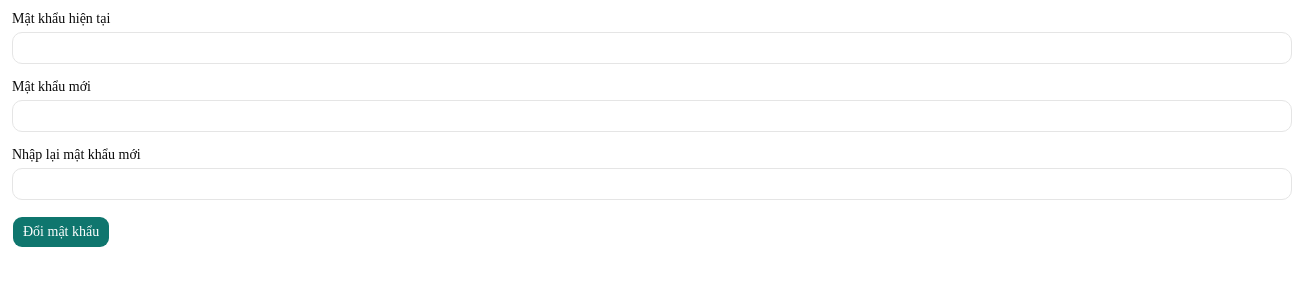
ChangePasswordForm › nhập lại không khớp -> lỗi ở ô nhập lại
The image size is (1304, 290).
Type "old-password-1" into the password field labelled "Mật khẩu hiện tại". click: (652, 48)
box: [12, 32, 1292, 64]
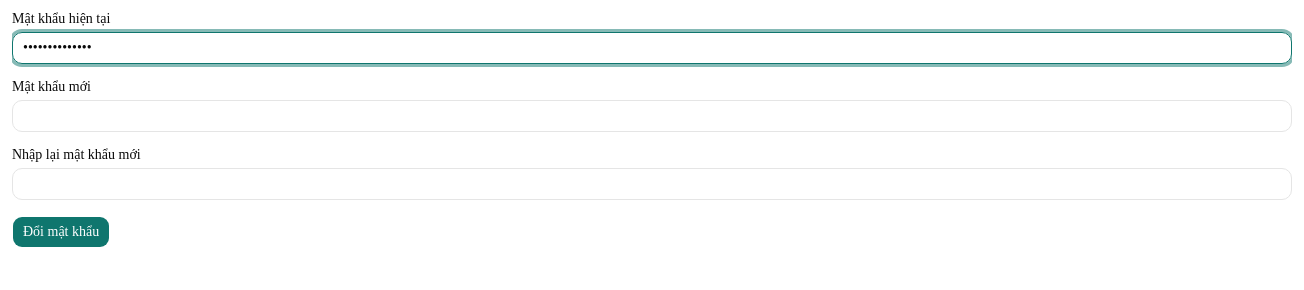
Type "new-password-2" into the password field labelled "Mật khẩu mới". click: (652, 116)
box: [12, 100, 1292, 132]
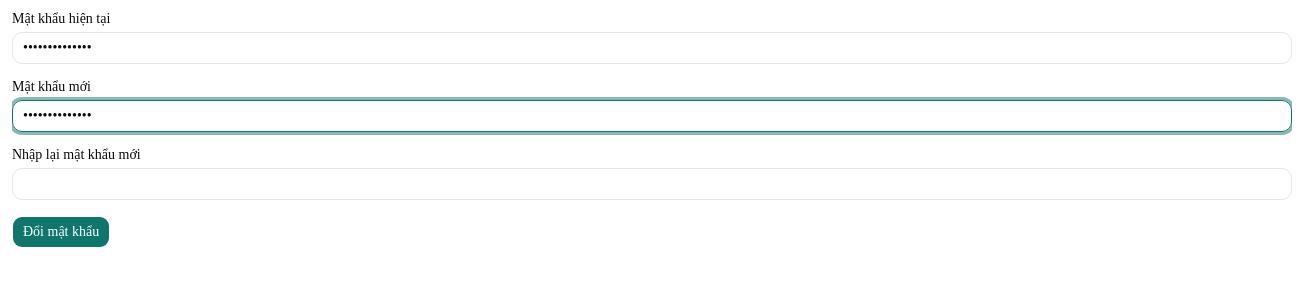
Type "new-password-3" into the password field labelled "Nhập lại mật khẩu mới". click: (652, 184)
box: [12, 168, 1292, 200]
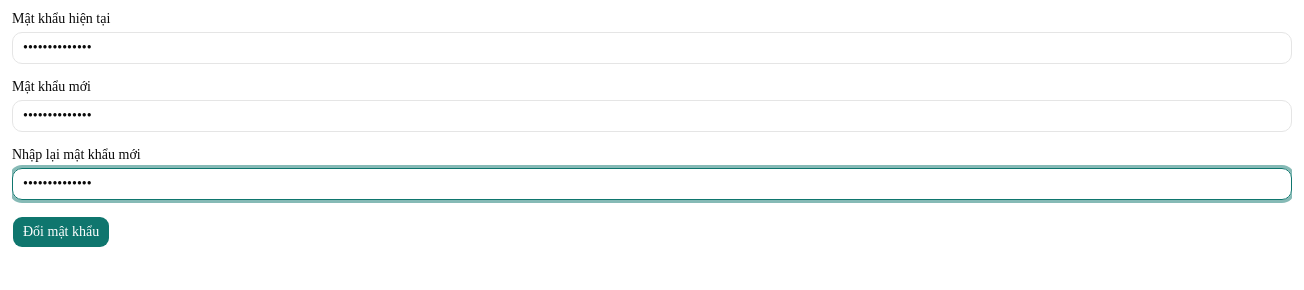
Click the button "Đổi mật khẩu". click: (61, 232)
box: [12, 216, 110, 248]
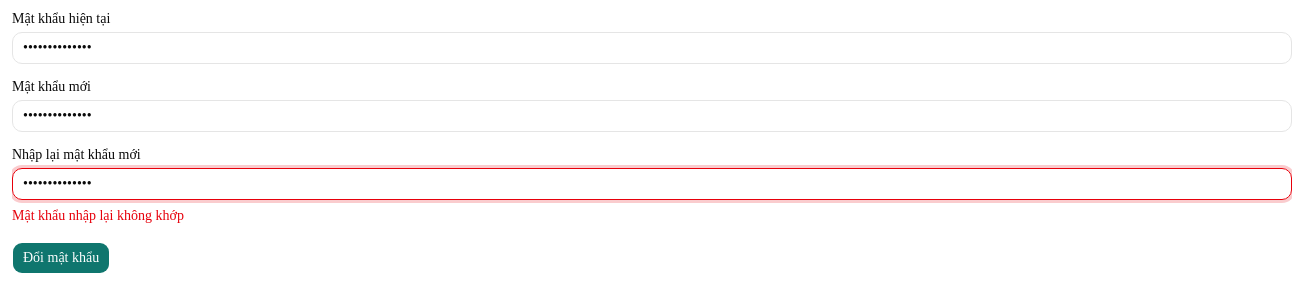
Check: the text "Mật khẩu nhập lại không khớp" is shown, box [12, 208, 184, 223]
